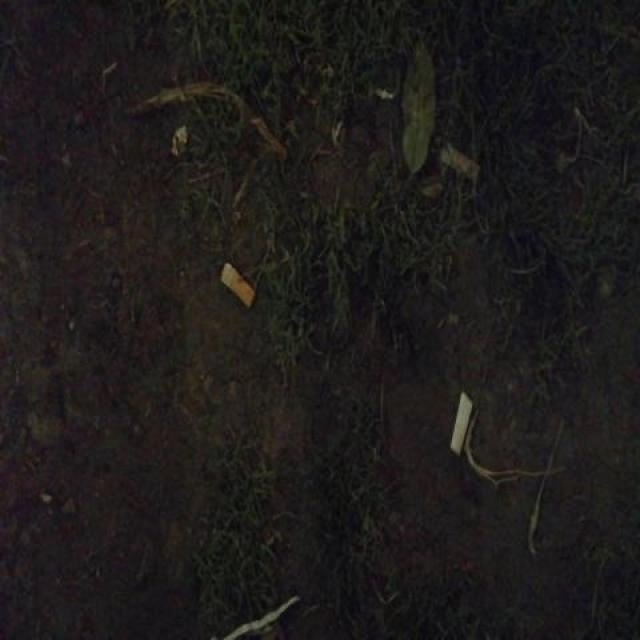non-organic waste: (433, 136, 484, 192), (215, 258, 258, 313), (448, 387, 473, 460)
